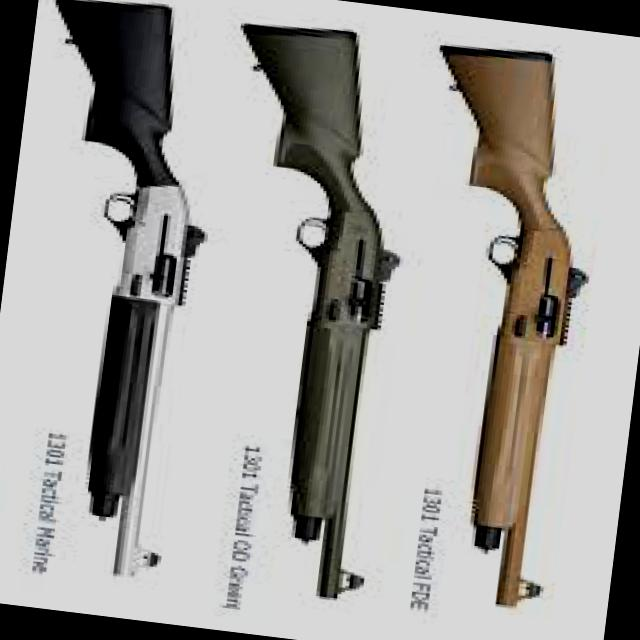long weapon: (426, 29, 640, 640), (228, 15, 384, 622), (53, 0, 193, 604)
